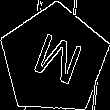M_S: (24, 28, 84, 91)
